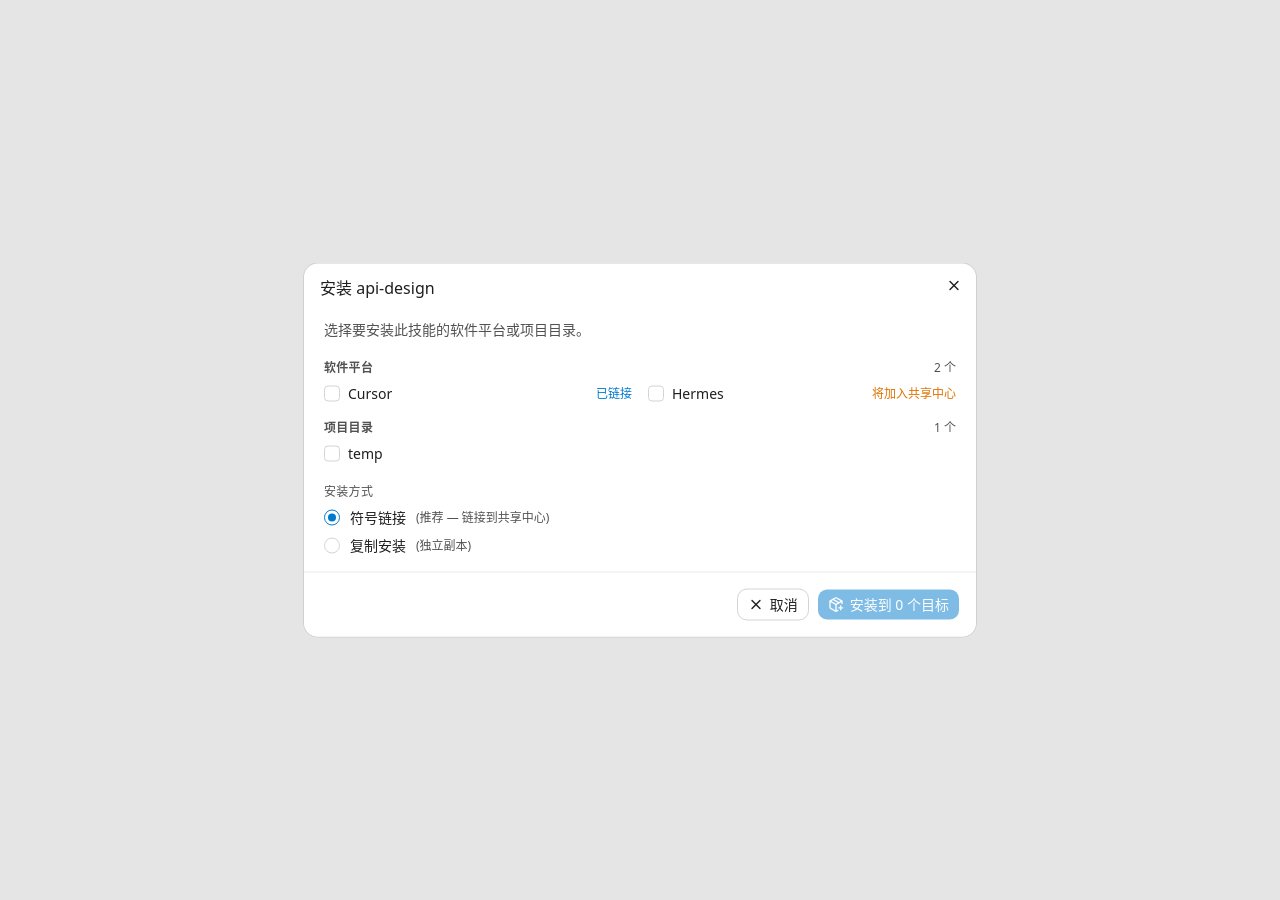
Test: InstallDialog › labels a shared platform as a centralize action and explains the sync scope
Expected: the text "将加入共享中心" is shown, x1=872 y1=386 x2=956 y2=402
Expected: the text "选中的共享平台会按共享中心规则同步" is not shown
Step 1. Click the checkbox named "Hermes" → coordinates (656, 394), box x1=648 y1=386 x2=664 y2=402
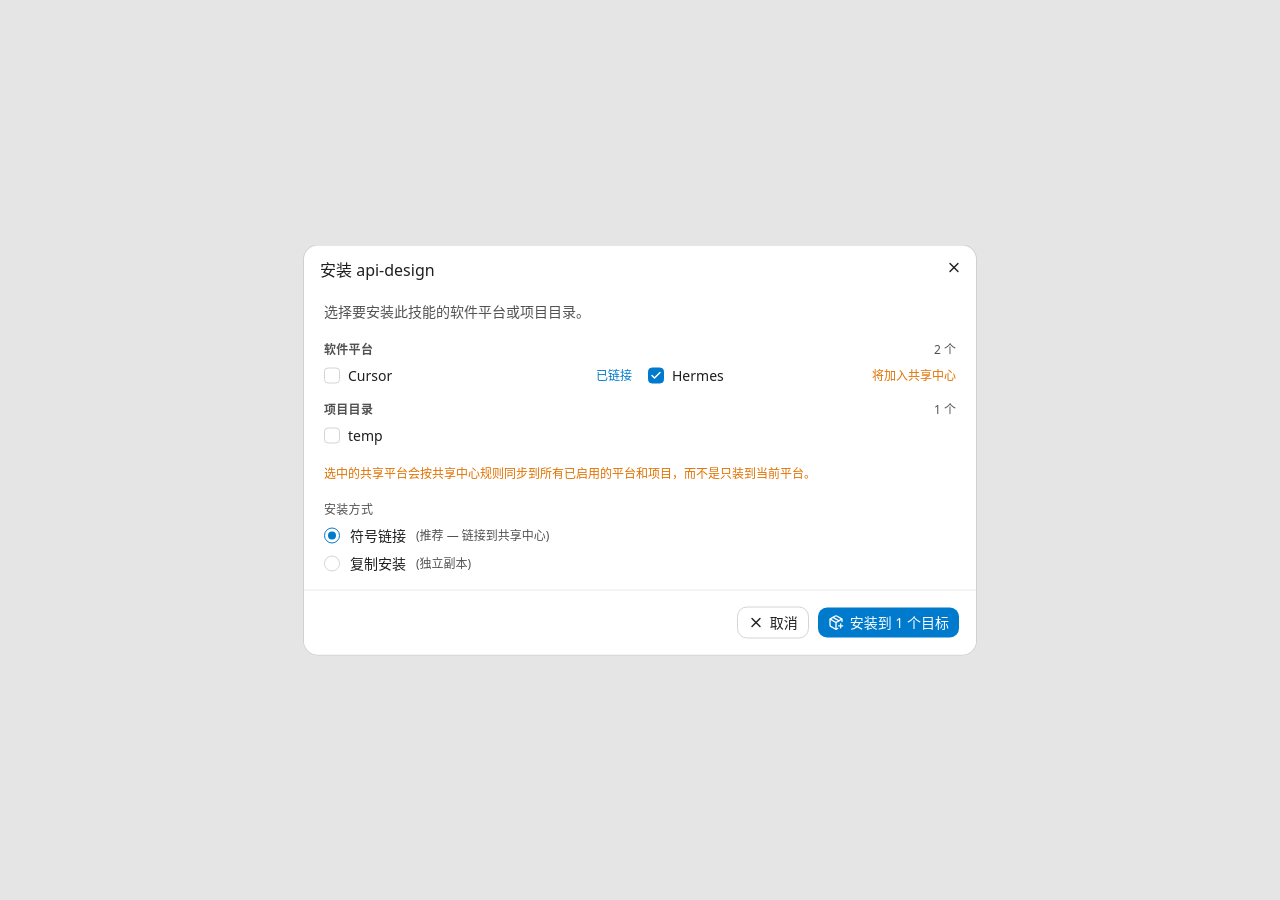
Expected: the text "选中的共享平台会按共享中心规则同步到所有已启用的平台和项目，而不是只装到当前平台。" is shown, x1=324 y1=464 x2=816 y2=482
